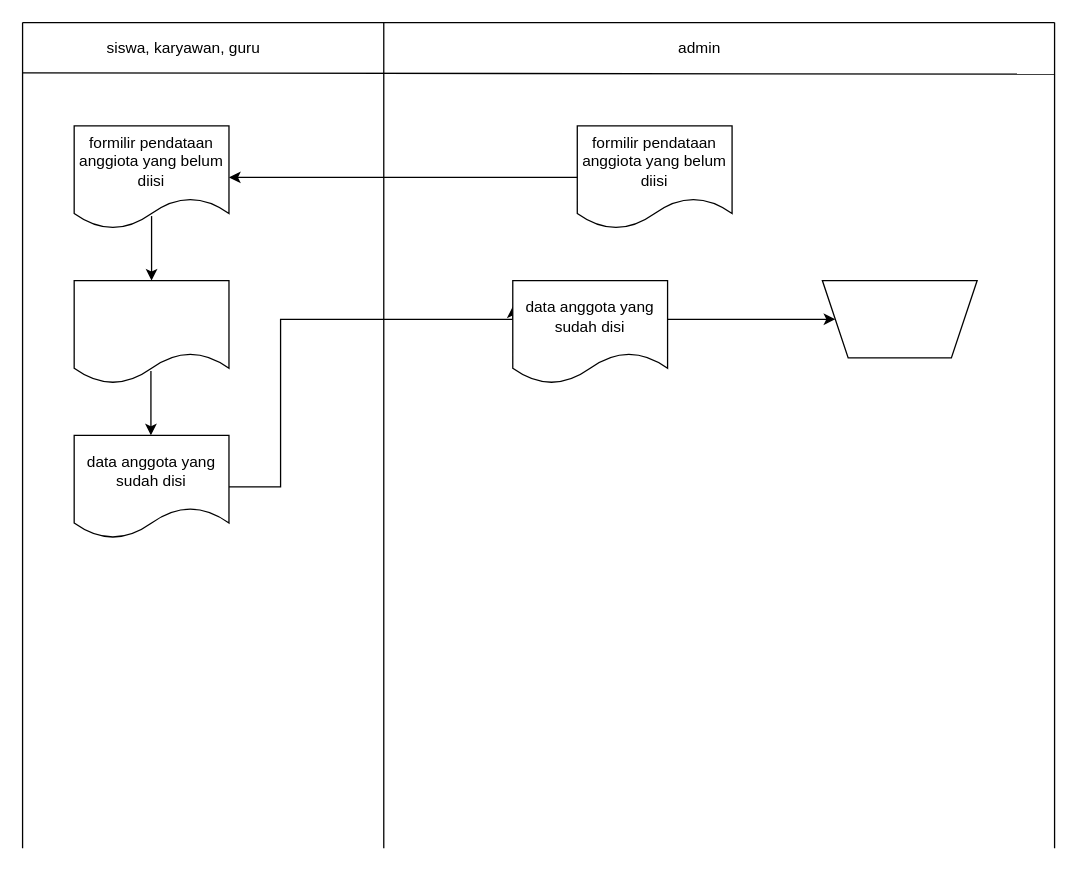
This 1078x872 diagram has some shape labels left out. The centre of each missing label's shape, as x and y in pixels:
pendataan anggota: the point at 899,318
pengisian data anggota: the point at 151,331
